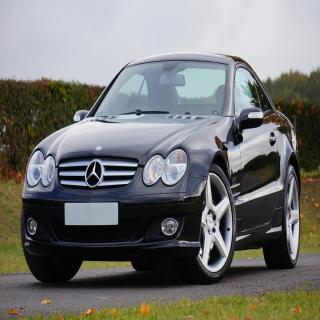Normal_vehicle: (20, 53, 300, 282)
